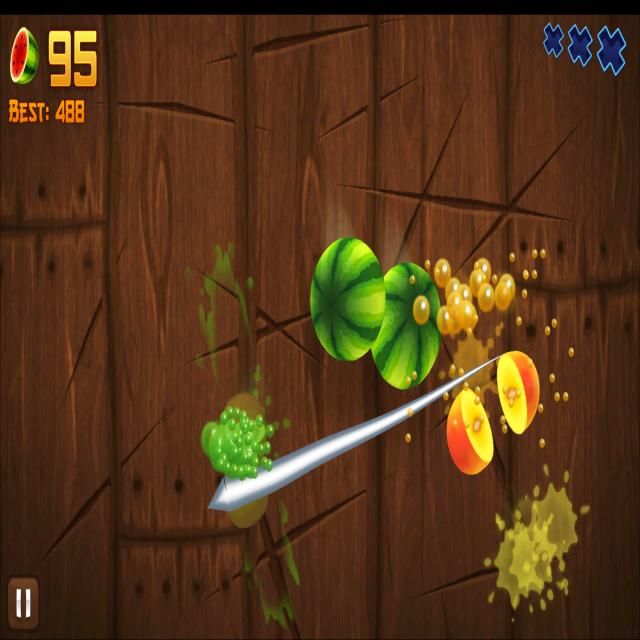fruit: (308, 237, 388, 362), (372, 261, 442, 391)
